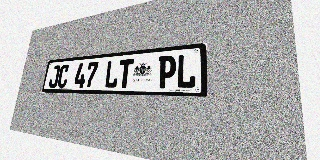4: (73, 63, 88, 88)
7: (84, 62, 99, 88)
C: (57, 64, 70, 88)
J: (48, 65, 61, 88)
L: (176, 53, 197, 89), (104, 60, 120, 88)
P: (157, 55, 177, 88)
T: (117, 59, 134, 88)
